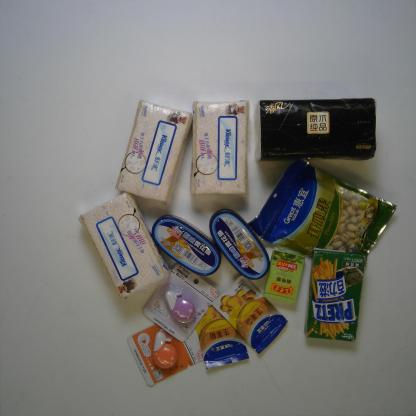Candy: (263, 246, 306, 305)
Canned Food: (151, 213, 222, 278), (208, 209, 270, 280)
Dessert: (303, 248, 367, 343)
Dried Fruit: (248, 157, 396, 272)
Seasoner: (211, 274, 288, 354), (194, 293, 251, 370)
Stationery: (140, 262, 220, 342), (128, 316, 206, 388)
Tissue: (78, 192, 169, 298), (114, 99, 194, 204), (255, 98, 377, 162), (189, 99, 249, 197)
